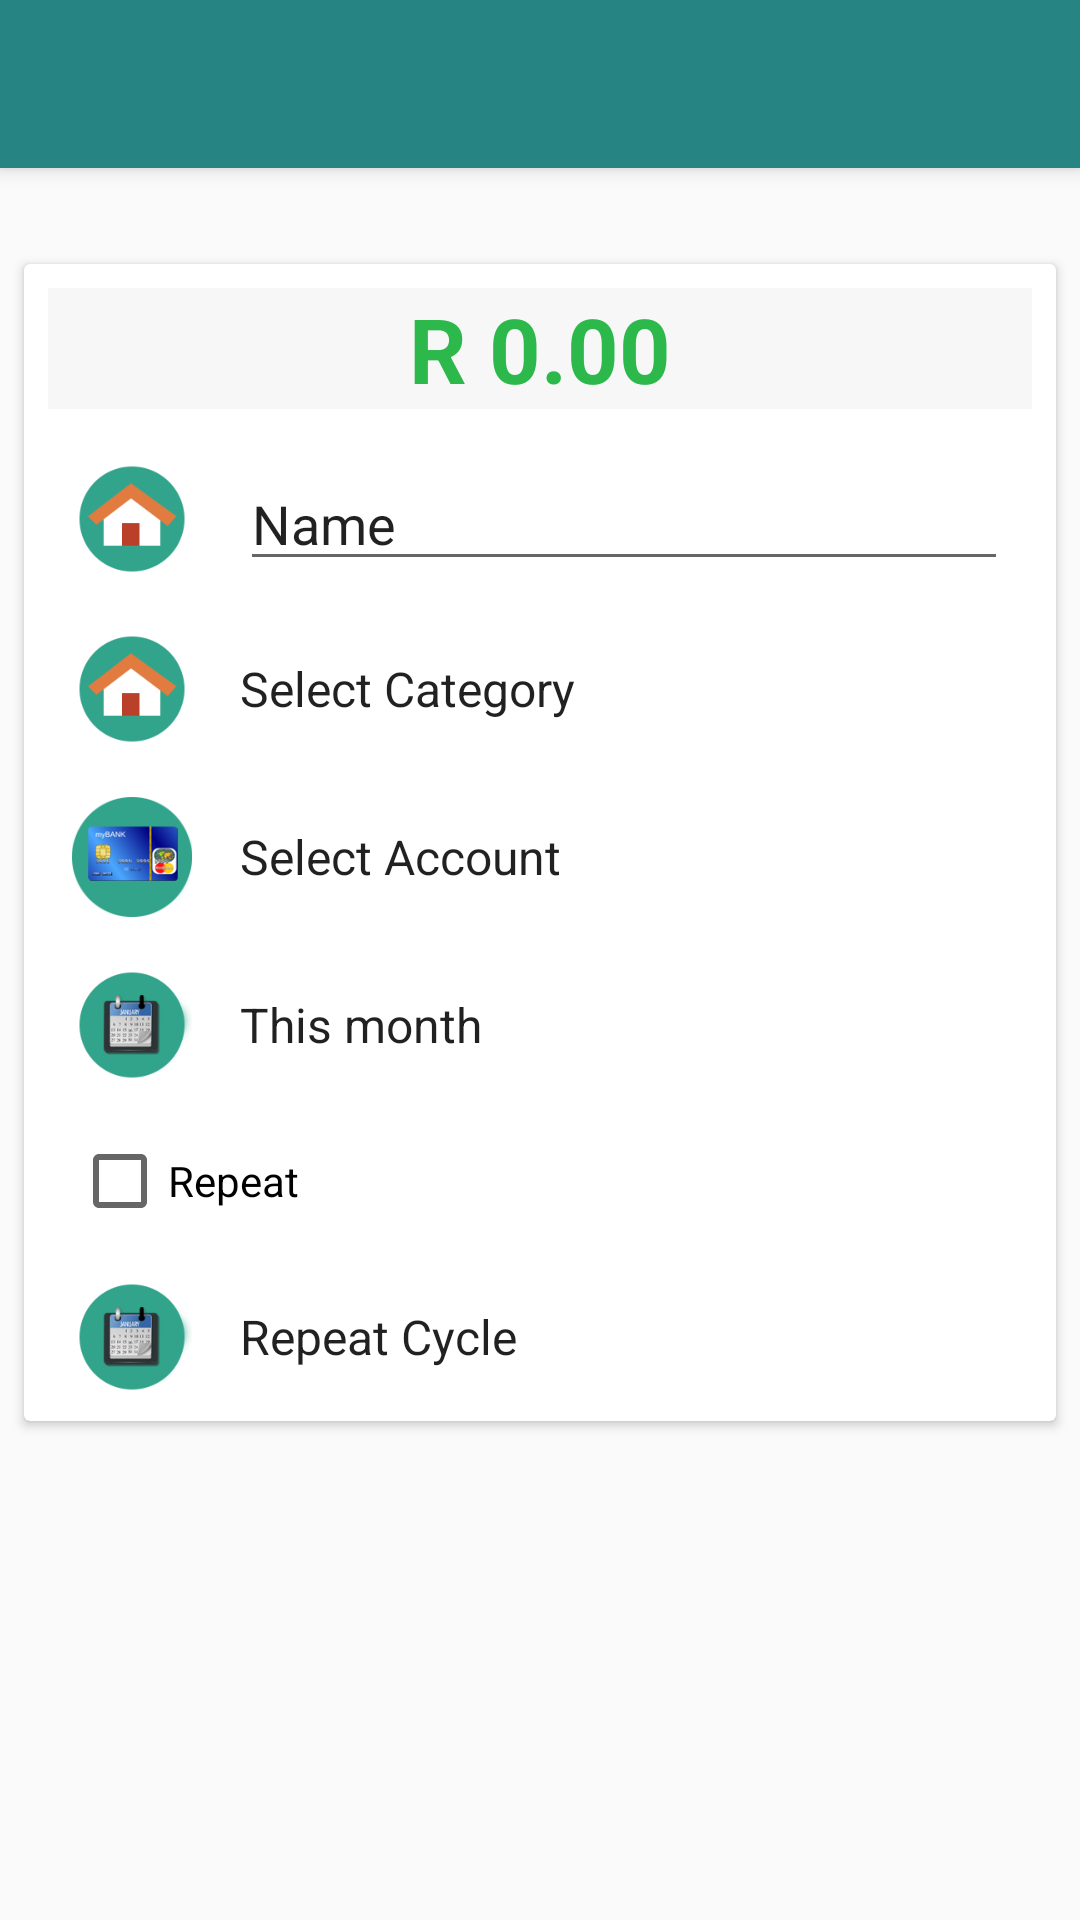

Icons on this 1080w x 1920h Android screen, each with the point to tap as [x,y]:
cal: [134,1025], [134,1337]
category family: [132,519], [132,689]
